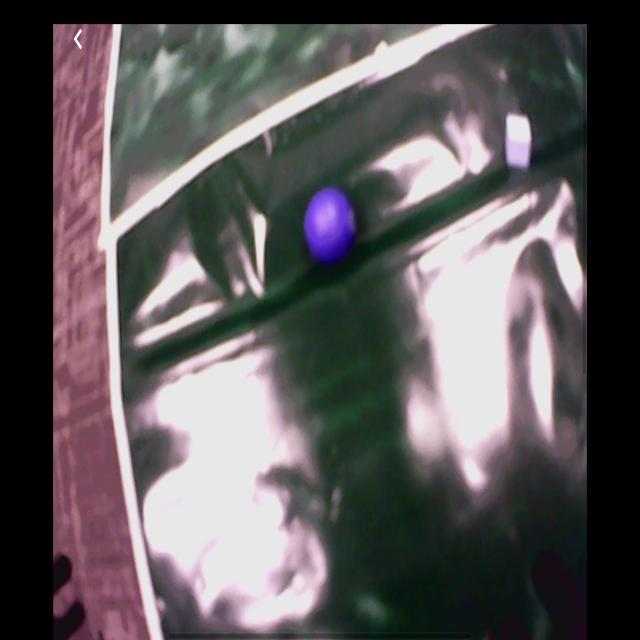ball: (306, 187, 354, 266)
